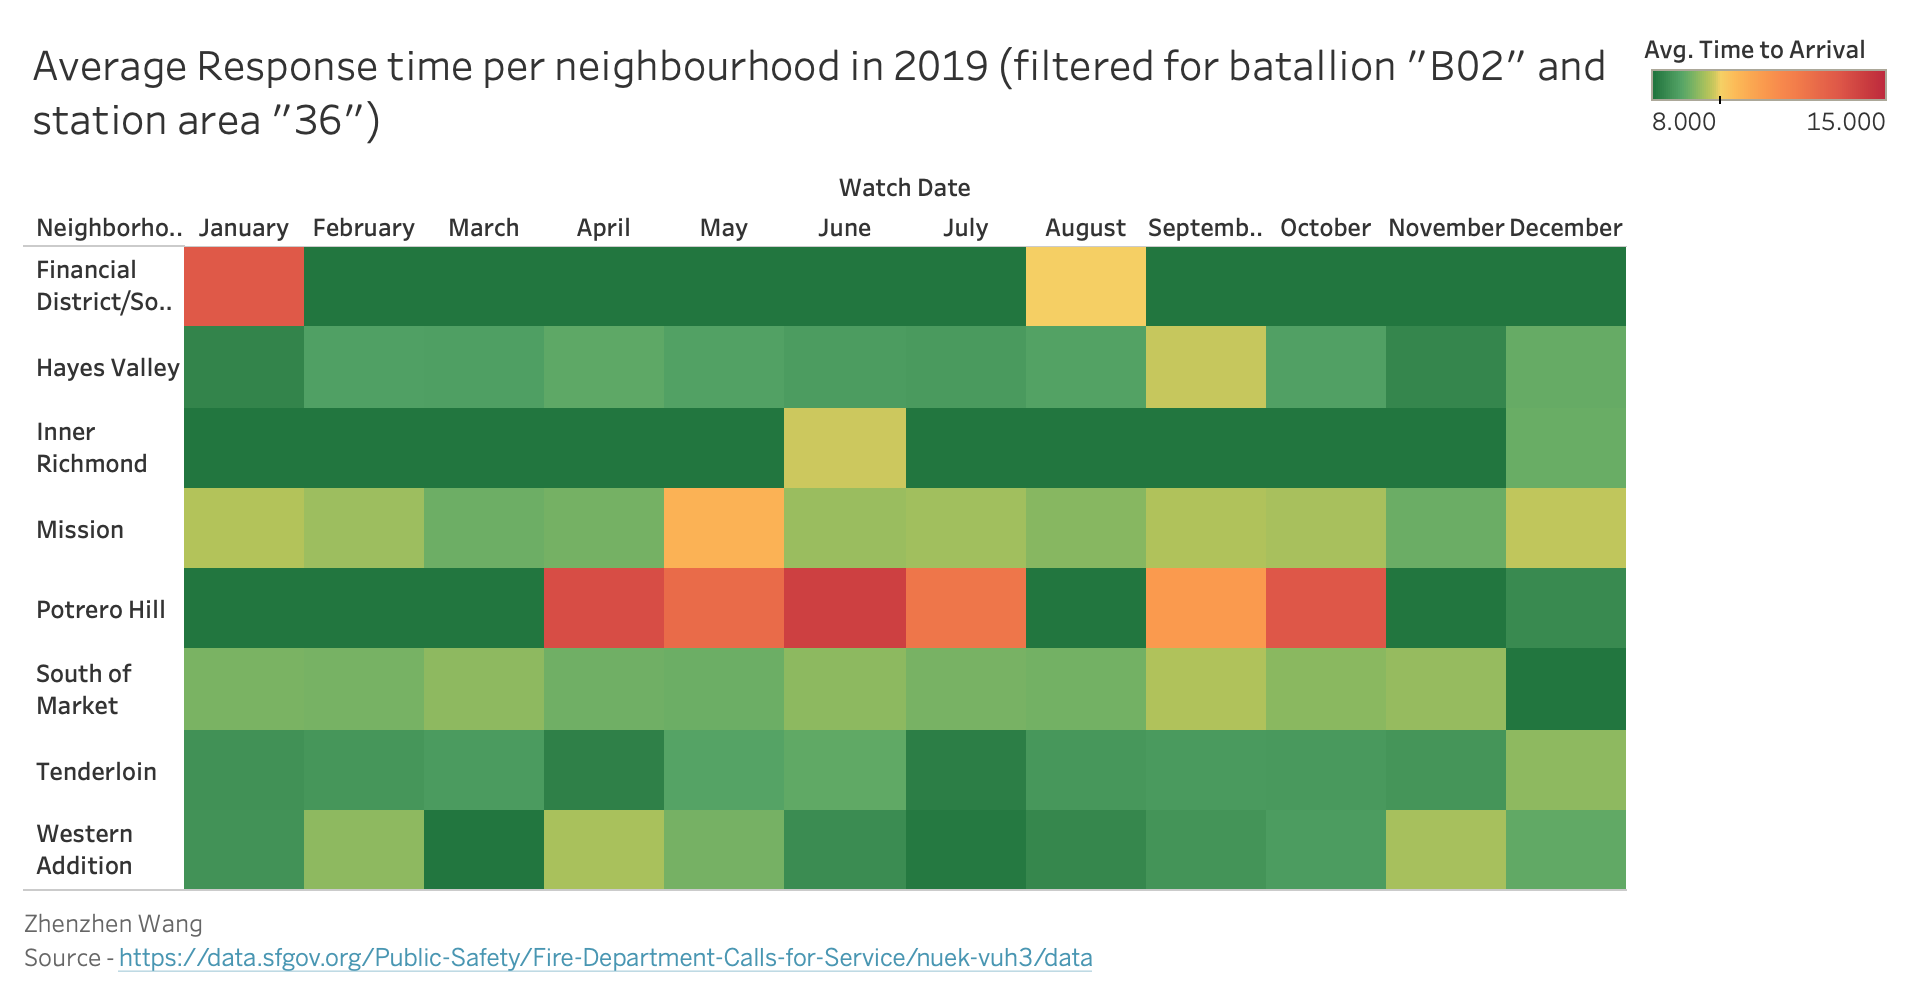

What the dashboard file says about the page in this screenshot:
{"tool":"tableau","page":{"name":"HeatMap","canvas":[1000,800],"ordinal":1},"visuals":[{"type":"worksheet","title":"Heat Map","mark":"Square","rows":["Neighborhooods - Analysis Boundaries"],"cols":["Watch Date"],"box":[8,8,824,784]},{"type":"filter","title":"Heat Map","param":"[federated.0cn4ezz19ygy0w166k5ly1trcdz3].[none:Call Type Group:nk]","box":[832,8,160,146]},{"type":"legend","title":"Heat Map","param":"[federated.0cn4ezz19ygy0w166k5ly1trcdz3].[avg:Calculation_247346160249446400:qk]","box":[832,154,160,65]}]}

Visuals, with their boxes on the page's 1000x800 design canvas (x1, y1, x2, y2). These are canvas units, not pixel positions in the 1920x1000 screenshot, which may show the page scaled, cropped or inside an application window:
"Heat Map" worksheet (Square marks): left=8, top=8, right=832, bottom=792
"Heat Map" filter: left=832, top=8, right=992, bottom=154
"Heat Map" legend: left=832, top=154, right=992, bottom=219
